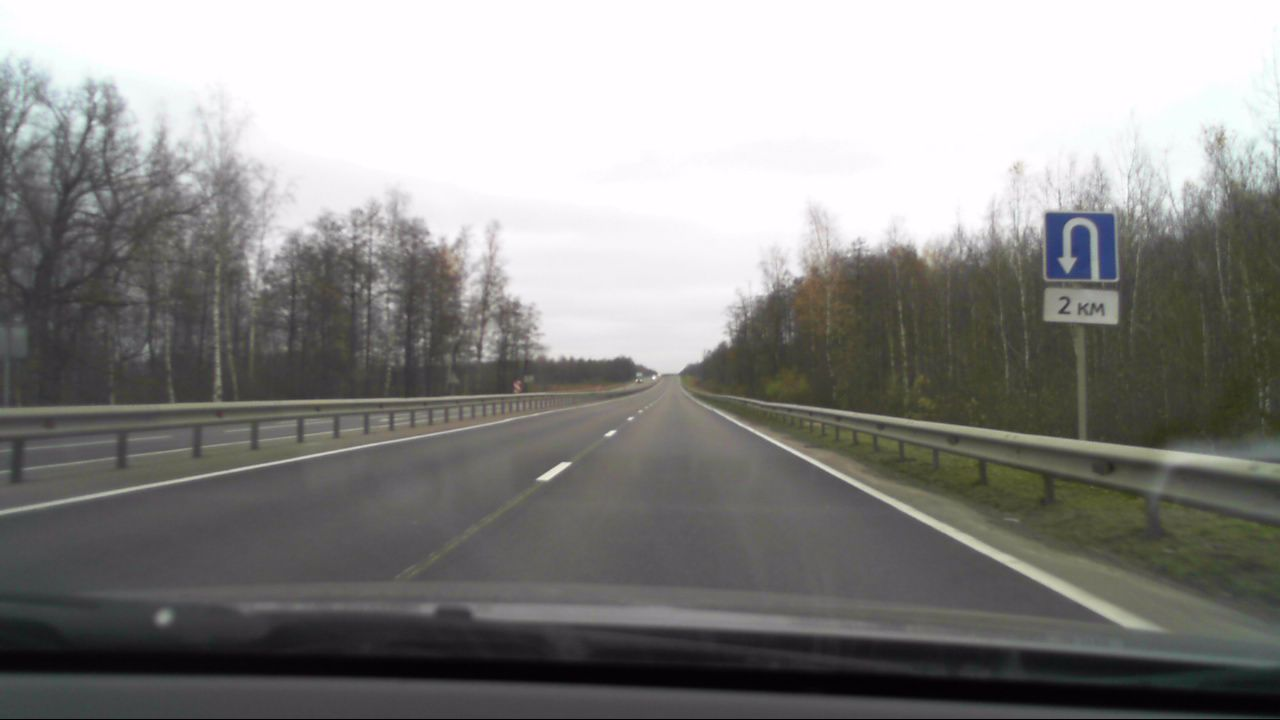U-turn: (1043, 210, 1118, 281)
